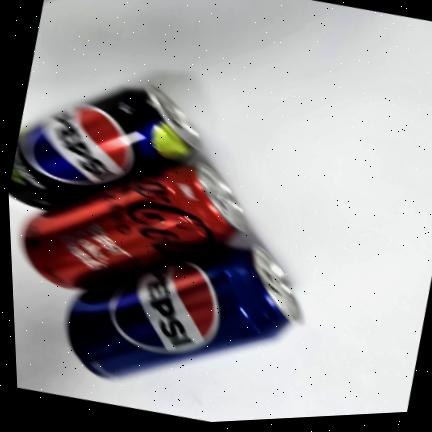can_coke_zero: (24, 163, 245, 288)
can_pepsi: (68, 246, 299, 377)
can_pepsi_zero: (9, 87, 199, 210)
